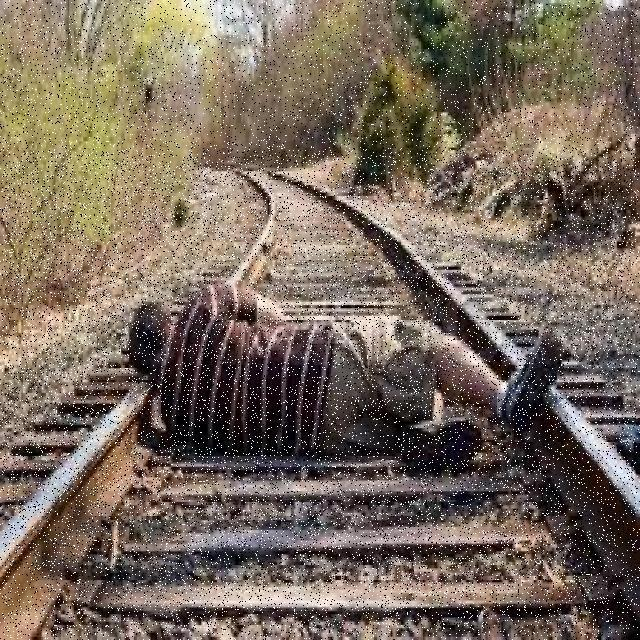rail: (3, 152, 637, 636)
